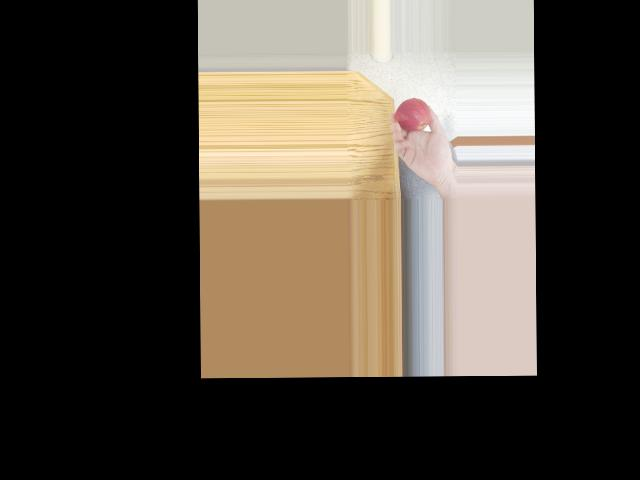apple: (395, 96, 430, 132)
